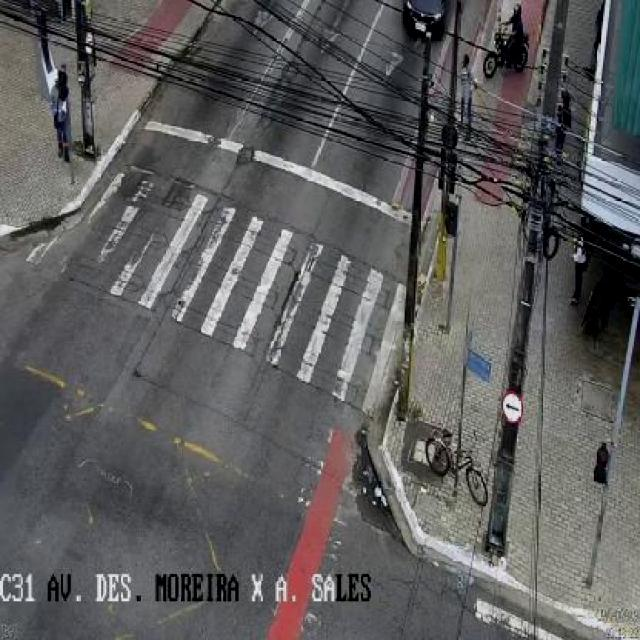Car: (402, 0, 456, 45)
Cycle: (425, 420, 500, 518), (477, 0, 540, 84)
